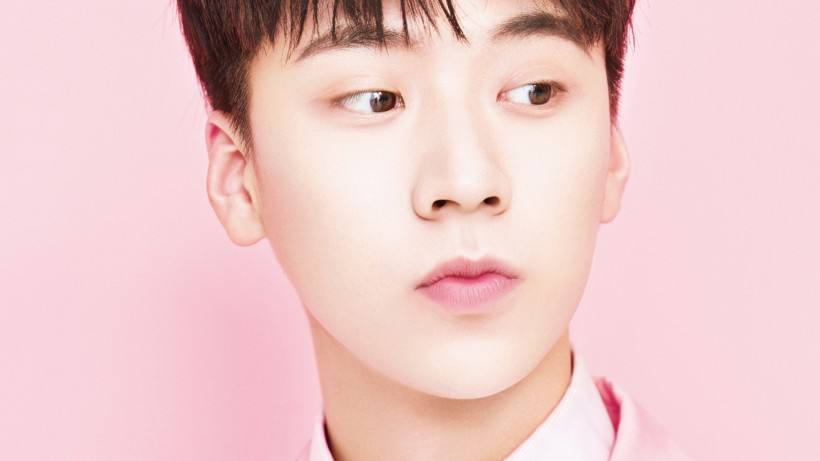person: (126, 24, 680, 412)
